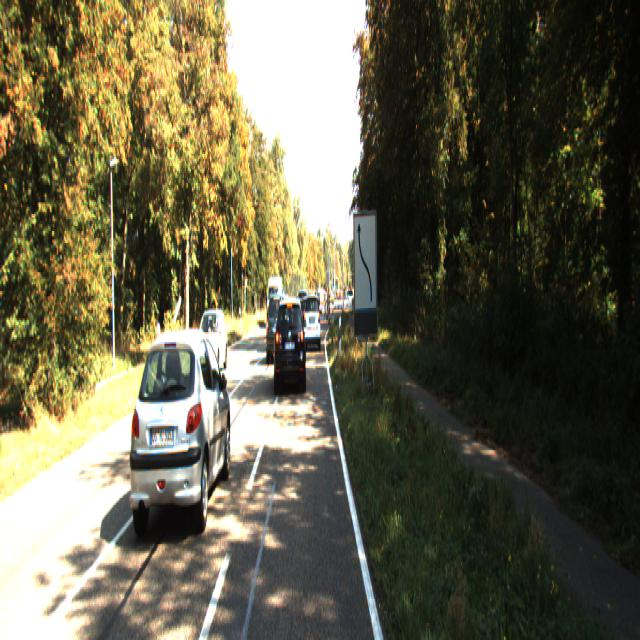Car: (128, 317, 231, 533), (274, 294, 306, 392), (192, 305, 226, 374), (265, 290, 290, 360), (304, 291, 321, 346)
